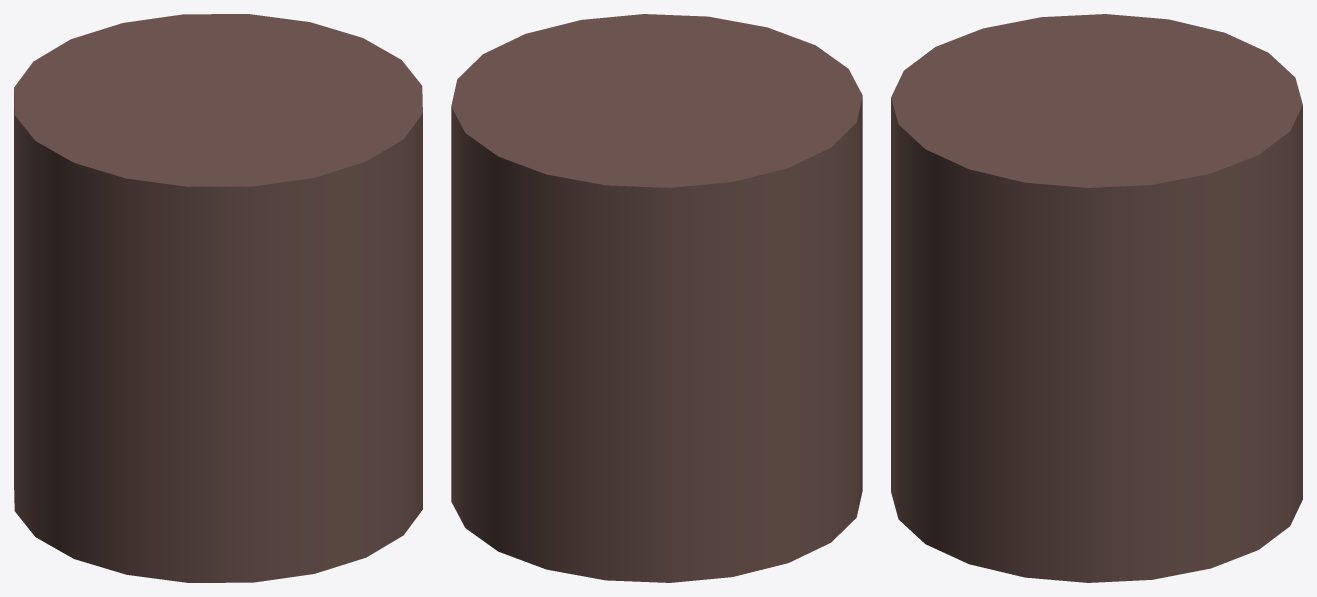
File: SM_CoffeeMesh_01.fbx
The picture shows the model from 3 angles, left to right: view 1: azimuth 30°, elevation 25°; view 2: azimuth 150°, elevation 25°; view 3: azimuth 270°, elevation 25°; orthographic projection.
Parts seen in each view (by area): view 1: Coffee_Mesh; view 2: Coffee_Mesh; view 3: Coffee_Mesh.
Boxes of the visible parts, bbox=[...] form: Coffee_Mesh: bbox=[14, 14, 422, 582]; Coffee_Mesh: bbox=[451, 14, 862, 582]; Coffee_Mesh: bbox=[891, 14, 1302, 582].
Size of the model in its own units: 13.96 by 14.77 by 13.96.
